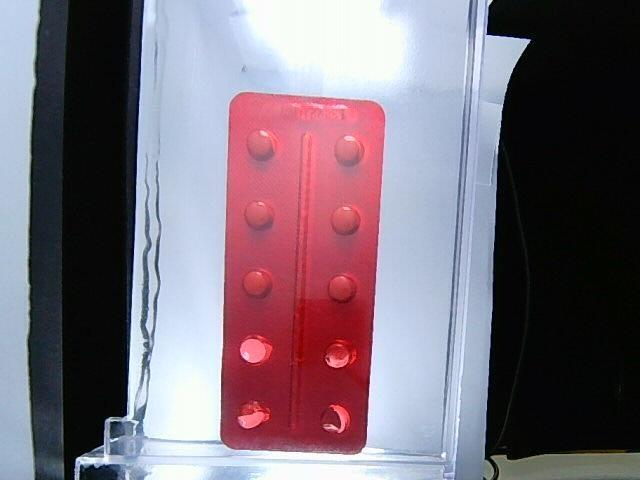Light Front: (221, 93, 384, 453)
No Pill Front: (239, 335, 274, 366), (236, 401, 271, 429), (324, 339, 356, 369), (321, 405, 349, 433)
Pill Front: (246, 129, 276, 160), (335, 135, 365, 166), (331, 205, 361, 235), (243, 269, 273, 297), (245, 201, 273, 229), (328, 274, 356, 302)
